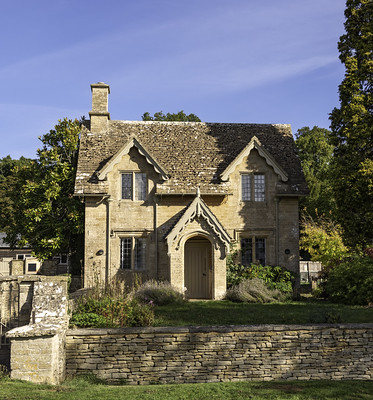low: (68, 82, 312, 306)
